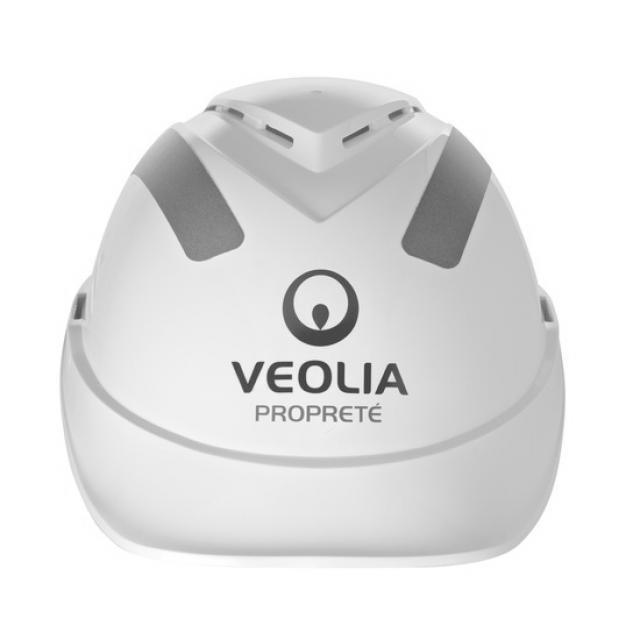safety_helmet: (61, 78, 567, 569)
